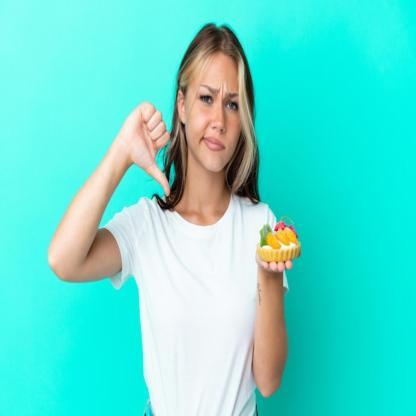thumb_down: (120, 97, 174, 203)
